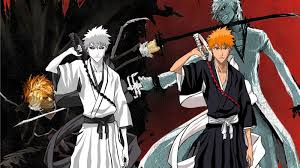Ichigo: (22, 75, 59, 113), (83, 28, 111, 64), (207, 28, 235, 64)
